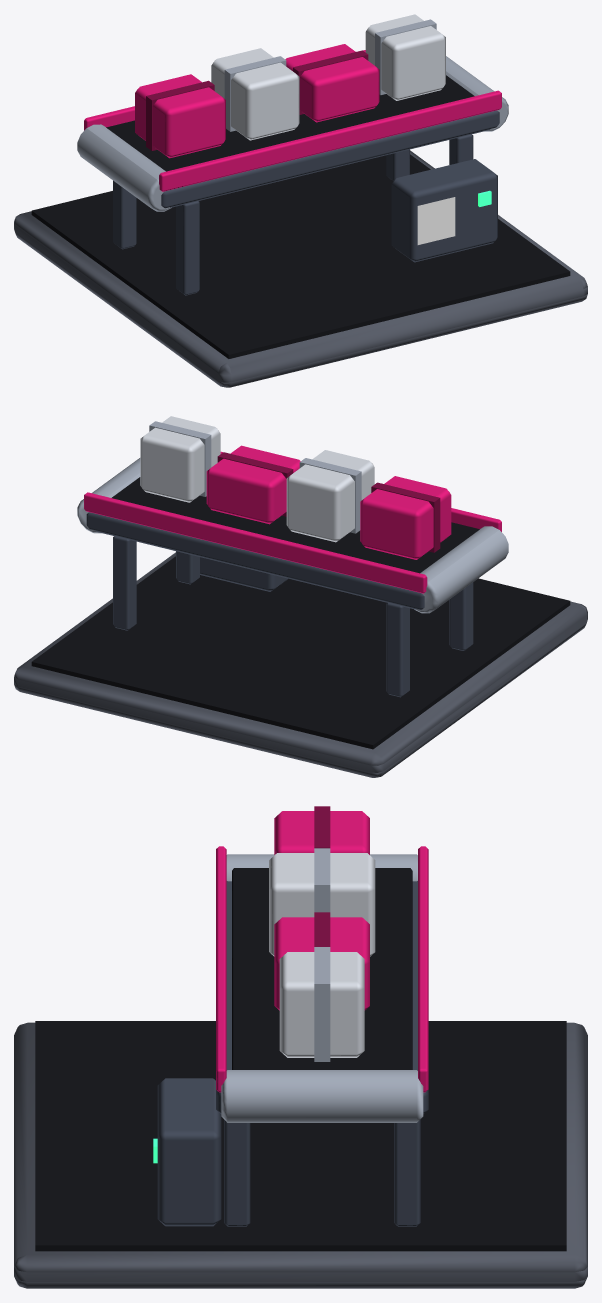
Rendered from sqs.glb.
The picture shows the model from 3 angles, top to bottom: view 1: azimuth 30°, elevation 25°; view 2: azimuth 150°, elevation 25°; view 3: azimuth 270°, elevation 25°; orthographic projection. The views are drawn at different scales.
Visible parts, largest first — view 1: body.rubber, body.steel, body.concrete, body.accent, body.white, body.steel_light, body.badge, body.accent_dark; view 2: body.rubber, body.concrete, body.accent, body.steel, body.white, body.steel_light, body.accent_dark; view 3: body.rubber, body.concrete, body.steel, body.steel_light, body.white, body.accent, body.accent_dark.
Boxes of the visible parts, bbox=[...] form: body.rubber: bbox=[31, 75, 570, 358]; body.steel: bbox=[113, 110, 499, 295]; body.concrete: bbox=[14, 150, 587, 387]; body.accent: bbox=[84, 44, 501, 191]; body.white: bbox=[211, 14, 445, 140]; body.steel_light: bbox=[77, 19, 508, 211]; body.badge: bbox=[417, 197, 455, 244]; body.accent_dark: bbox=[146, 50, 368, 150]; body.rubber: bbox=[31, 477, 570, 749]; body.concrete: bbox=[14, 552, 587, 777]; body.accent: bbox=[84, 445, 501, 593]; body.steel: bbox=[86, 512, 473, 697]; body.white: bbox=[140, 416, 374, 542]; body.steel_light: bbox=[77, 421, 508, 613]; body.accent_dark: bbox=[217, 452, 440, 552]; body.rubber: bbox=[35, 868, 566, 1251]; body.concrete: bbox=[14, 1022, 587, 1288]; body.steel: bbox=[157, 881, 428, 1226]; body.steel_light: bbox=[221, 848, 423, 1122]; body.white: bbox=[269, 853, 375, 1057]; body.accent: bbox=[216, 811, 428, 1092]; body.accent_dark: bbox=[314, 806, 330, 946].
Size of the model in its own units: 1.08 by 0.584 by 1.08.
